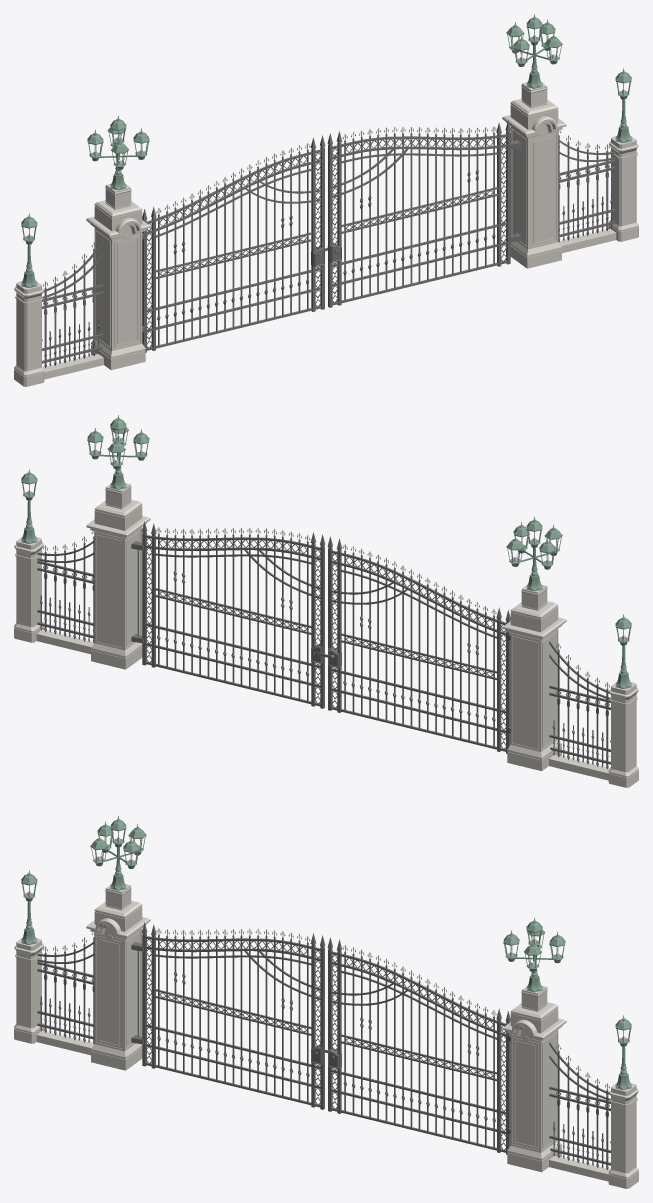
The model's file is 914_european_gate.glb.
The picture shows the model from 3 angles, top to bottom: view 1: azimuth 30°, elevation 25°; view 2: azimuth 150°, elevation 25°; view 3: azimuth 330°, elevation 25°; orthographic projection.
Parts seen in each view (by area): view 1: right, left, gate_right, gate_left; view 2: left, right, gate_right, gate_left; view 3: left, right, gate_left, gate_right.
Boxes of the visible parts, bbox=[...] form: right: bbox=[502, 14, 638, 268]; left: bbox=[14, 115, 150, 386]; gate_right: bbox=[327, 120, 510, 307]; gate_left: bbox=[142, 135, 325, 352]; left: bbox=[502, 516, 638, 787]; right: bbox=[14, 415, 150, 669]; gate_right: bbox=[142, 521, 325, 708]; gate_left: bbox=[327, 536, 510, 753]; left: bbox=[14, 816, 150, 1070]; right: bbox=[502, 917, 638, 1188]; gate_left: bbox=[142, 922, 325, 1109]; gate_right: bbox=[327, 937, 510, 1154].
Bounding box in the file's own units: 17.25 × 6.51 × 1.45.
